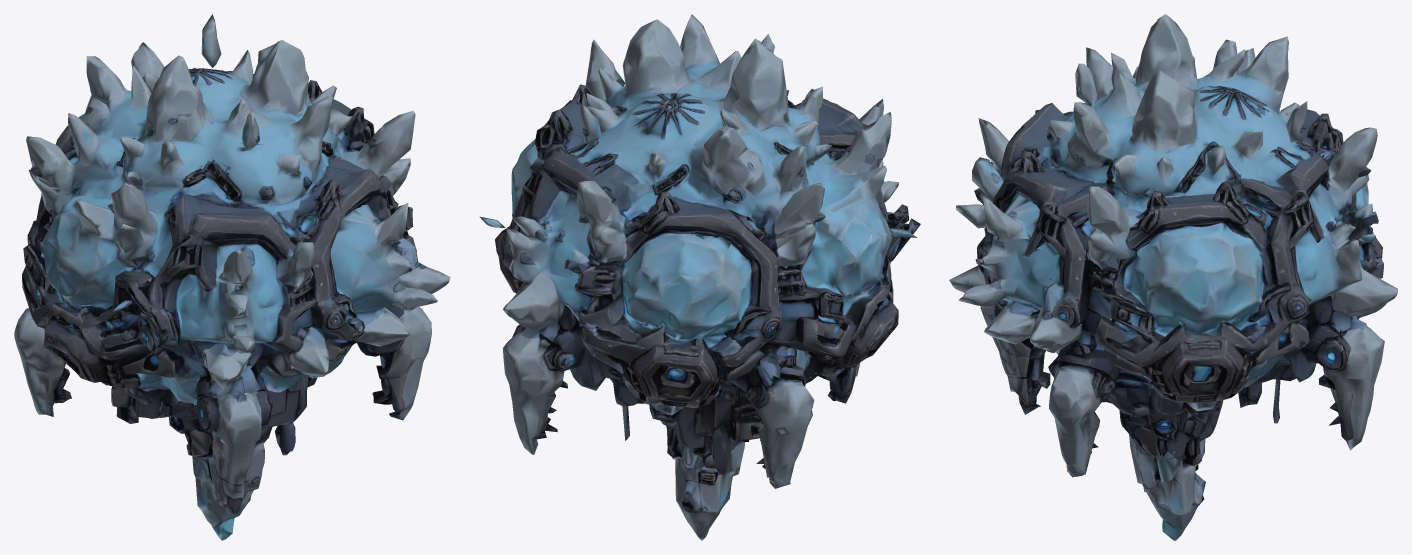
The model's file is enemy_zengas.glb.
3 views of the same model, side by side, from view 1: azimuth 30°, elevation 25°; view 2: azimuth 150°, elevation 25°; view 3: azimuth 270°, elevation 25° (orthographic).
Visible parts, largest first — view 1: tripo_node_51403460-41dd-460d-a9f5-b4d50f9cdcdb; view 2: tripo_node_51403460-41dd-460d-a9f5-b4d50f9cdcdb; view 3: tripo_node_51403460-41dd-460d-a9f5-b4d50f9cdcdb.
Part boxes in pixels (x1=…): tripo_node_51403460-41dd-460d-a9f5-b4d50f9cdcdb: x1=14, y1=14, x2=450, y2=540; tripo_node_51403460-41dd-460d-a9f5-b4d50f9cdcdb: x1=479, y1=14, x2=920, y2=540; tripo_node_51403460-41dd-460d-a9f5-b4d50f9cdcdb: x1=949, y1=14, x2=1397, y2=540.
Size of the model in its own units: 0.7536 by 0.9997 by 0.8082.
Materials: 1 (1 with a texture image).
